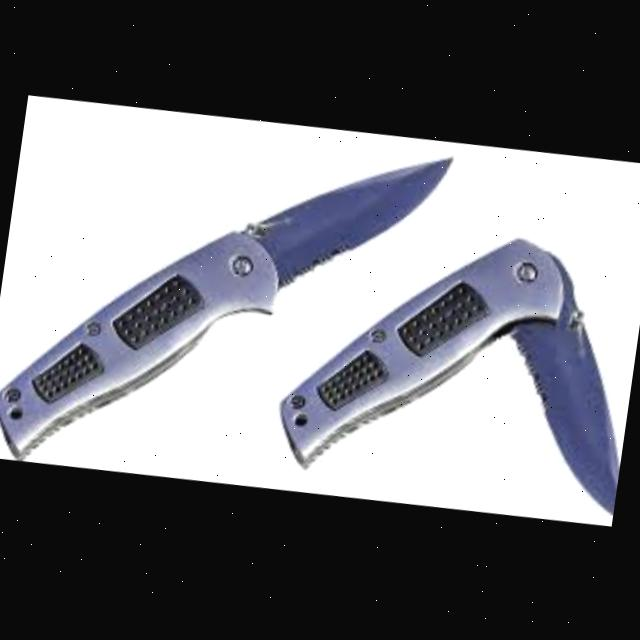Knife: (0, 96, 456, 514), (272, 206, 640, 530)
